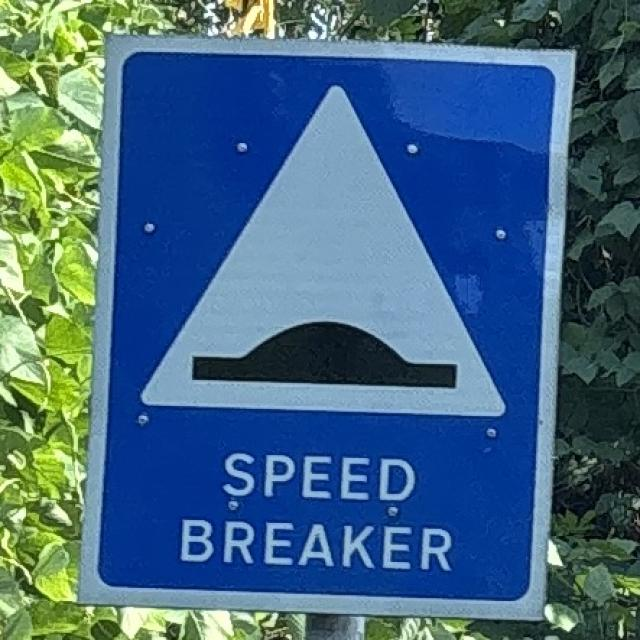HUMP_OR_ROUGH_ROAD: (74, 24, 590, 624)
